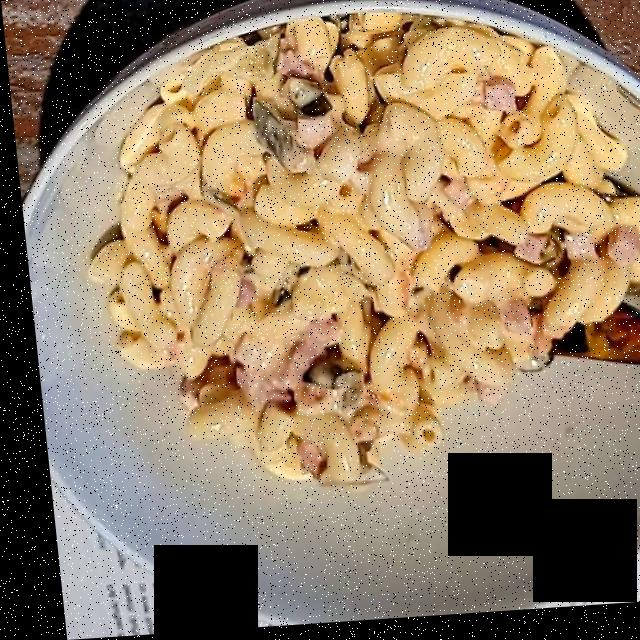ham: (221, 23, 636, 475)
leek: (235, 78, 381, 435)
pasta-hornli: (99, 24, 637, 483)
